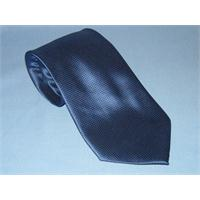tie: (24, 28, 170, 164)
